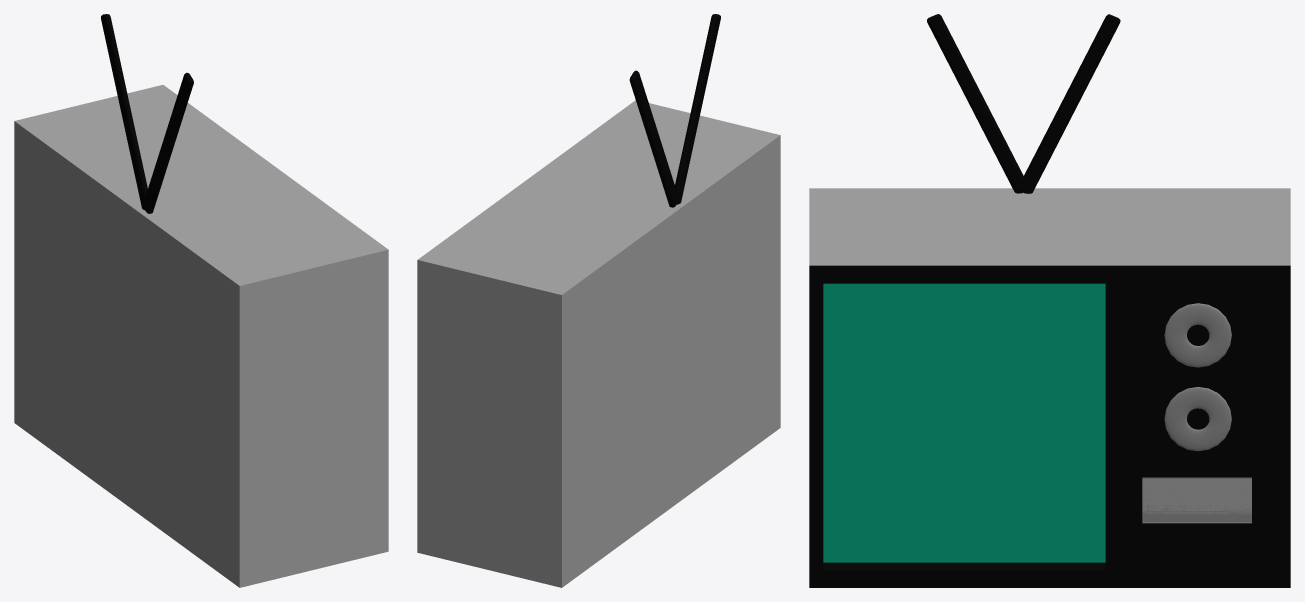
The model's file is oldtv.fbx.
The picture shows the model from 3 angles, left to right: view 1: azimuth 30°, elevation 25°; view 2: azimuth 150°, elevation 25°; view 3: azimuth 270°, elevation 25°; orthographic projection. The views are drawn at different scales.
Visible parts, largest first — view 1: pasted__pCube7; view 2: pasted__pCube7; view 3: pasted__pCube7.
Part boxes in pixels (x1,y1,x2,y2): pasted__pCube7: (14, 14, 388, 587); pasted__pCube7: (417, 14, 780, 587); pasted__pCube7: (809, 14, 1290, 587).
Size of the model in its own units: 0.5236 by 1.55 by 1.35.
